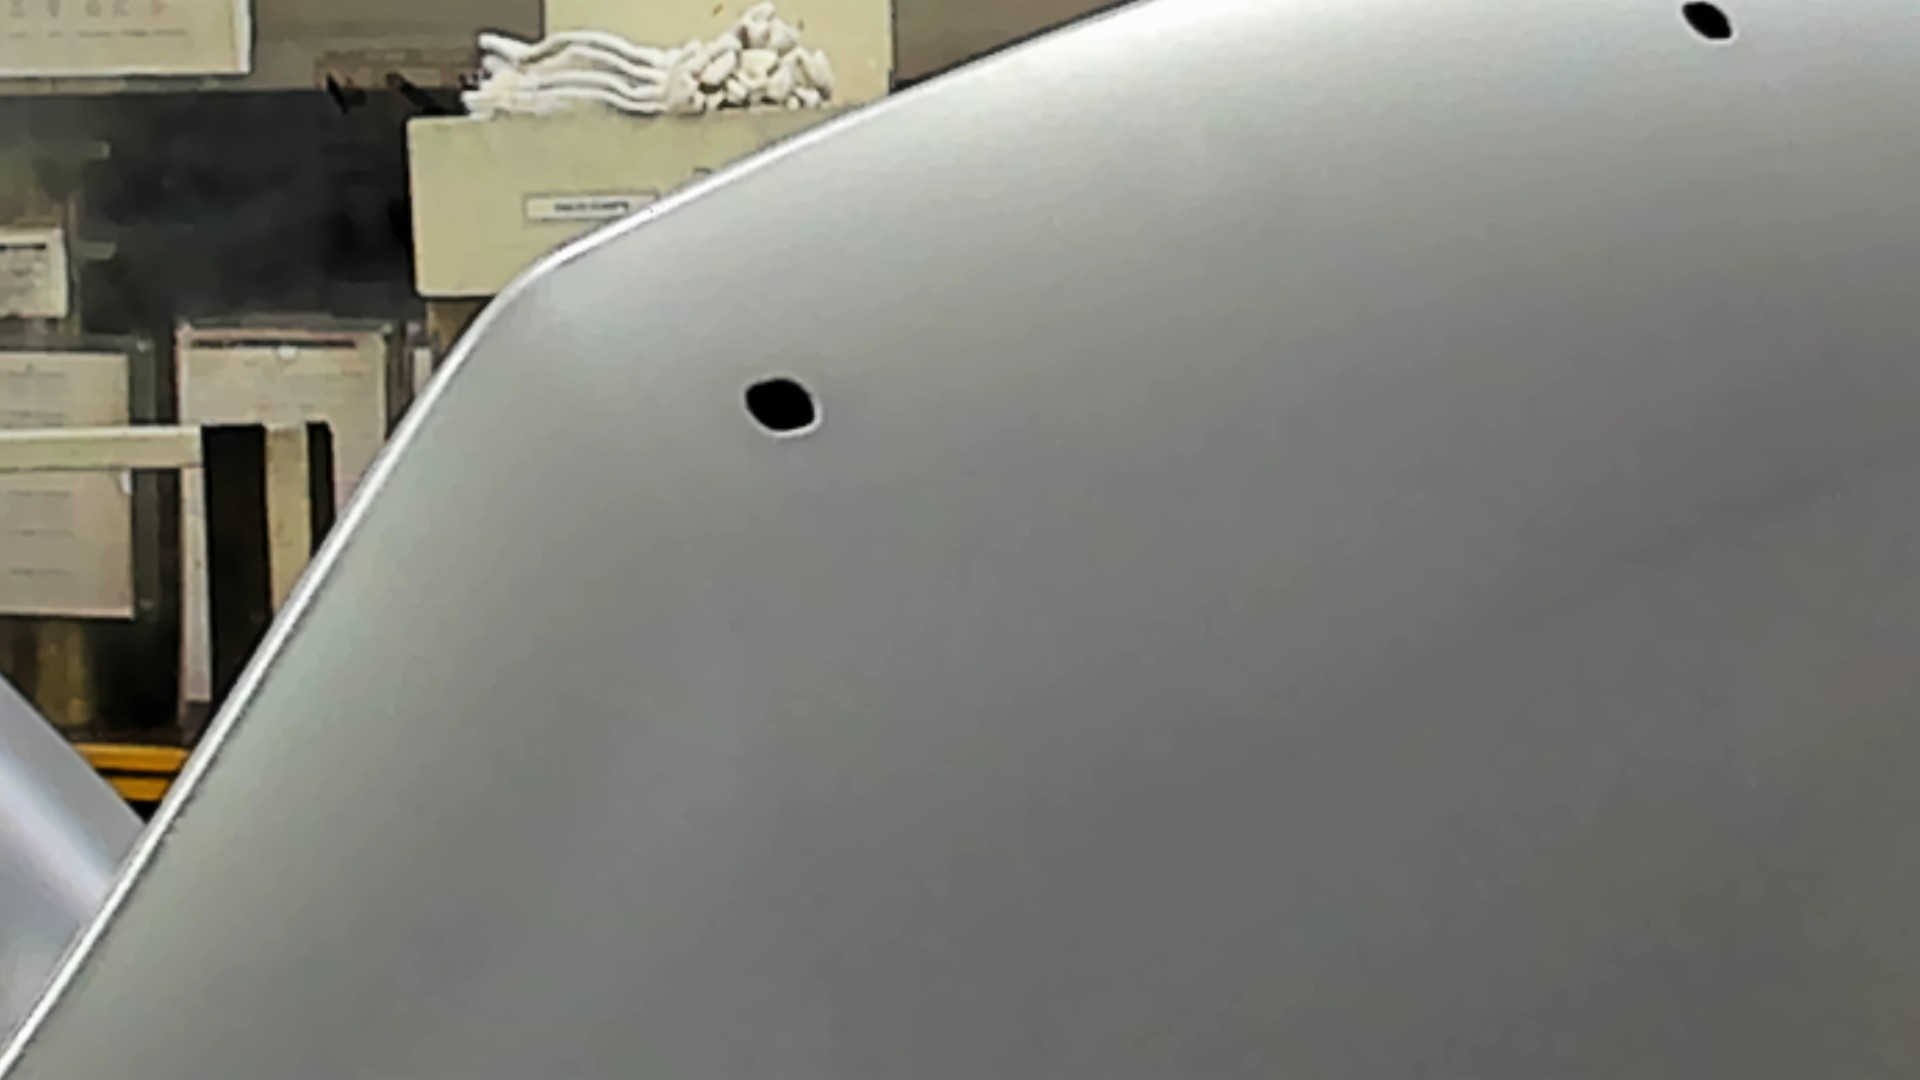amorfo: (737, 369, 827, 440), (1679, 1, 1742, 44)
